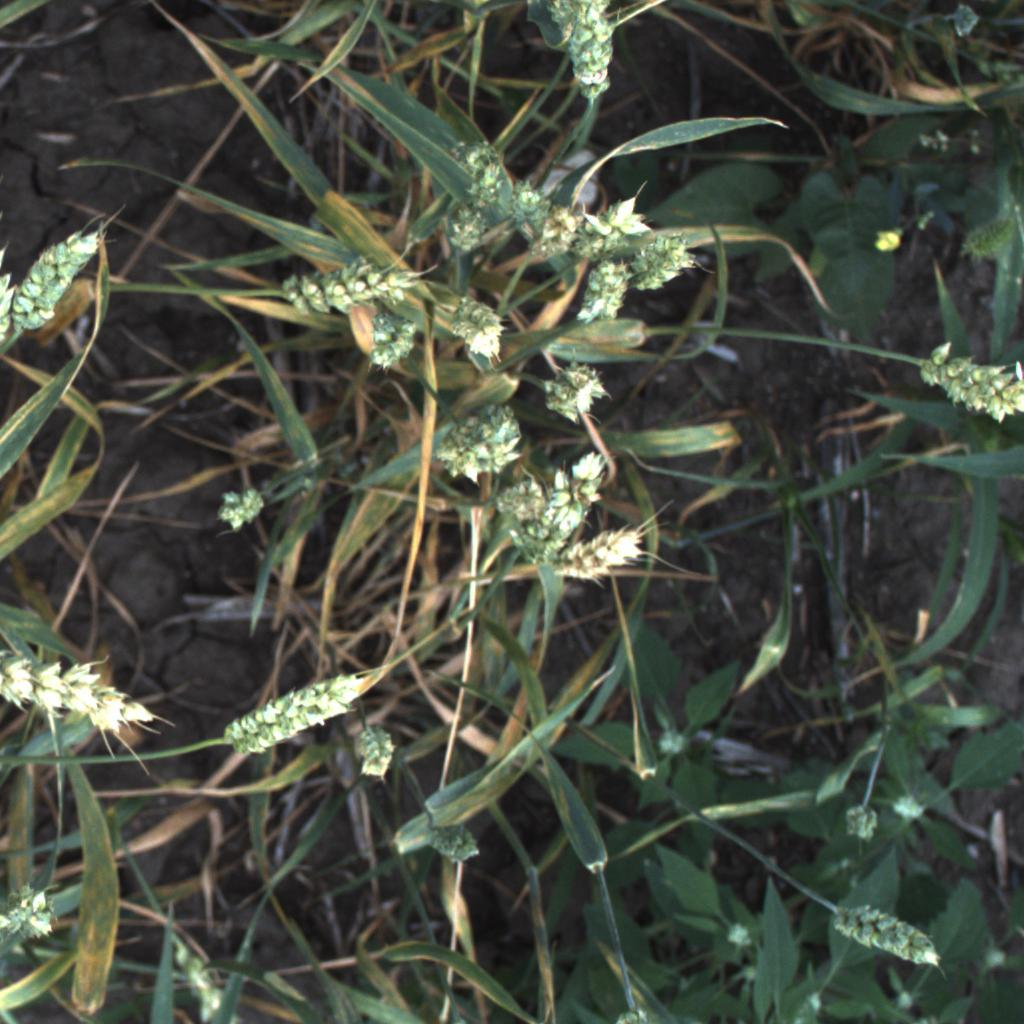0-0: (205, 655, 385, 760), (0, 638, 177, 741), (902, 323, 1024, 428), (274, 249, 449, 322), (515, 445, 618, 566), (12, 217, 109, 340), (417, 394, 532, 496), (821, 885, 945, 975), (532, 192, 642, 288), (542, 244, 649, 339), (537, 1, 630, 107), (522, 352, 623, 433), (434, 279, 514, 379), (610, 221, 706, 301), (540, 522, 652, 588), (347, 302, 421, 383), (474, 172, 561, 240), (450, 134, 512, 212), (347, 721, 408, 793), (496, 479, 553, 539), (433, 208, 497, 258), (3, 888, 57, 945), (219, 487, 266, 526), (437, 831, 484, 864), (845, 802, 877, 843)
